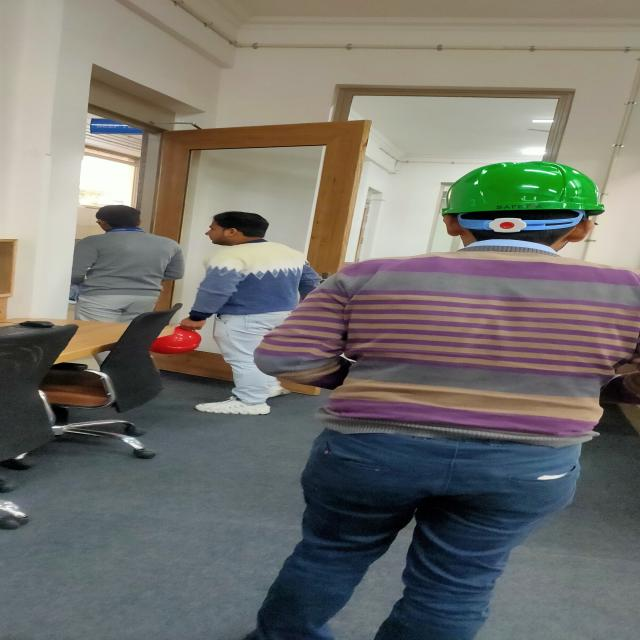no jacket: (252, 159, 640, 640)
unsafe: (181, 211, 323, 415), (75, 205, 185, 322)
